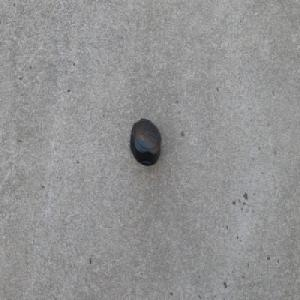FuelCap: (129, 118, 161, 166)
